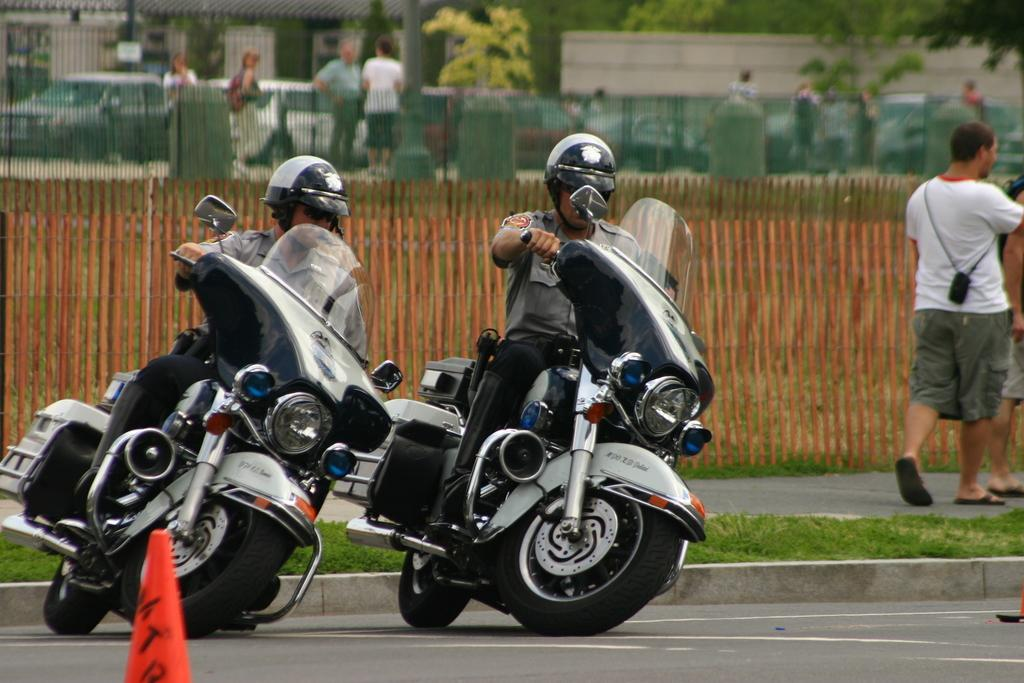helmet: (263, 155, 351, 247), (543, 133, 616, 224)
nohelmet: (949, 120, 1000, 183), (241, 46, 261, 70), (339, 39, 357, 64), (375, 35, 393, 59), (172, 51, 187, 73)
